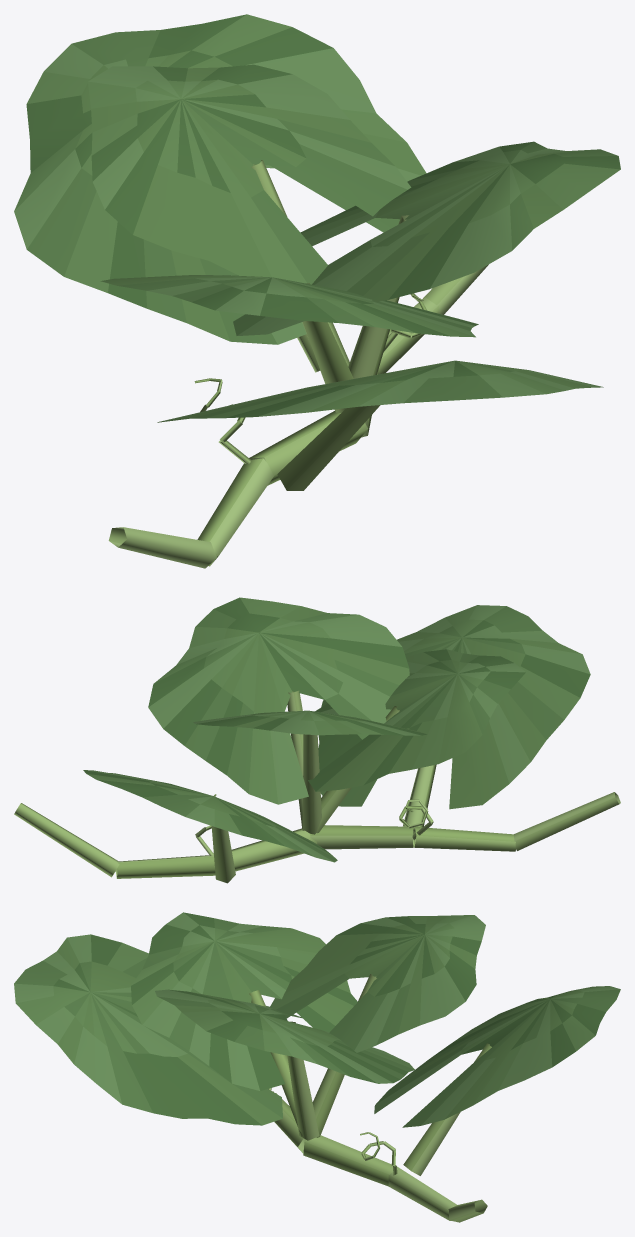
Rendered from melon_jeune.glb.
The picture shows the model from 3 angles, top to bottom: view 1: azimuth 30°, elevation 25°; view 2: azimuth 150°, elevation 25°; view 3: azimuth 270°, elevation 25°; orthographic projection. The views are drawn at different scales.
Visible parts, largest first — view 1: Melon_Feuilles, Melon_Tiges; view 2: Melon_Feuilles, Melon_Tiges; view 3: Melon_Feuilles, Melon_Tiges.
Boxes of the visible parts, bbox=[...] form: Melon_Feuilles: bbox=[14, 14, 620, 422]; Melon_Tiges: bbox=[108, 160, 488, 568]; Melon_Feuilles: bbox=[83, 597, 590, 862]; Melon_Tiges: bbox=[14, 690, 620, 883]; Melon_Feuilles: bbox=[14, 912, 620, 1127]; Melon_Tiges: bbox=[249, 974, 491, 1222].
Bounding box in the file's own units: 0.4249 × 0.1851 × 0.4981.
